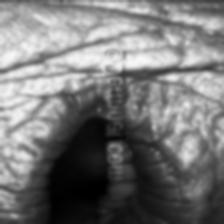Toxin: (150, 148, 194, 224), (128, 78, 164, 142), (24, 140, 46, 222), (54, 80, 98, 114), (38, 110, 68, 142)
